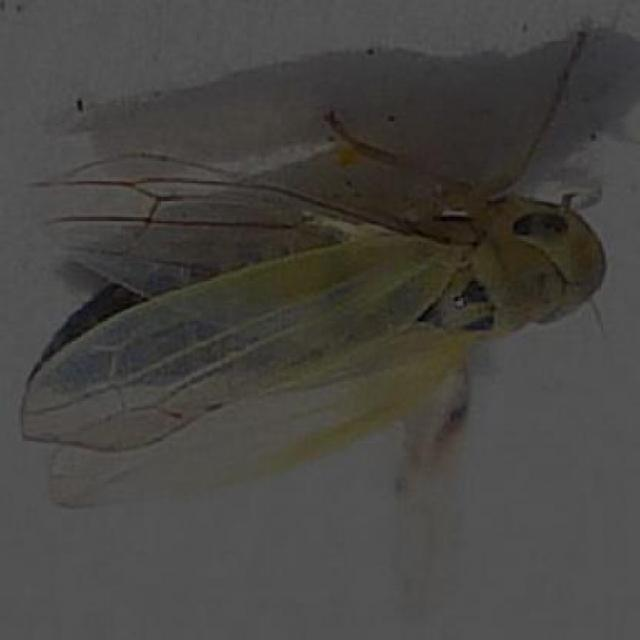green-leafhopper: (29, 140, 611, 512)
